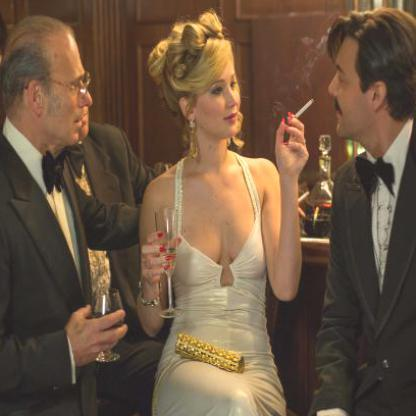cigarette: (294, 96, 316, 121)
person: (136, 15, 284, 415), (0, 12, 124, 415), (323, 10, 415, 415)
